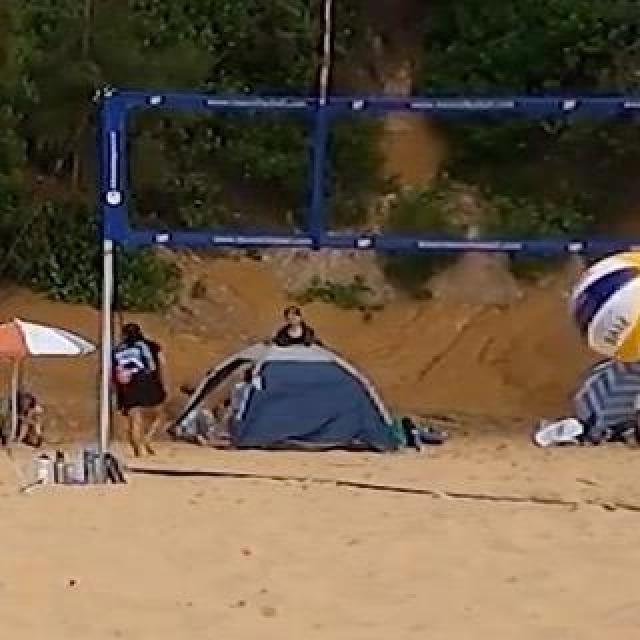volleyball: (570, 249, 640, 363)
